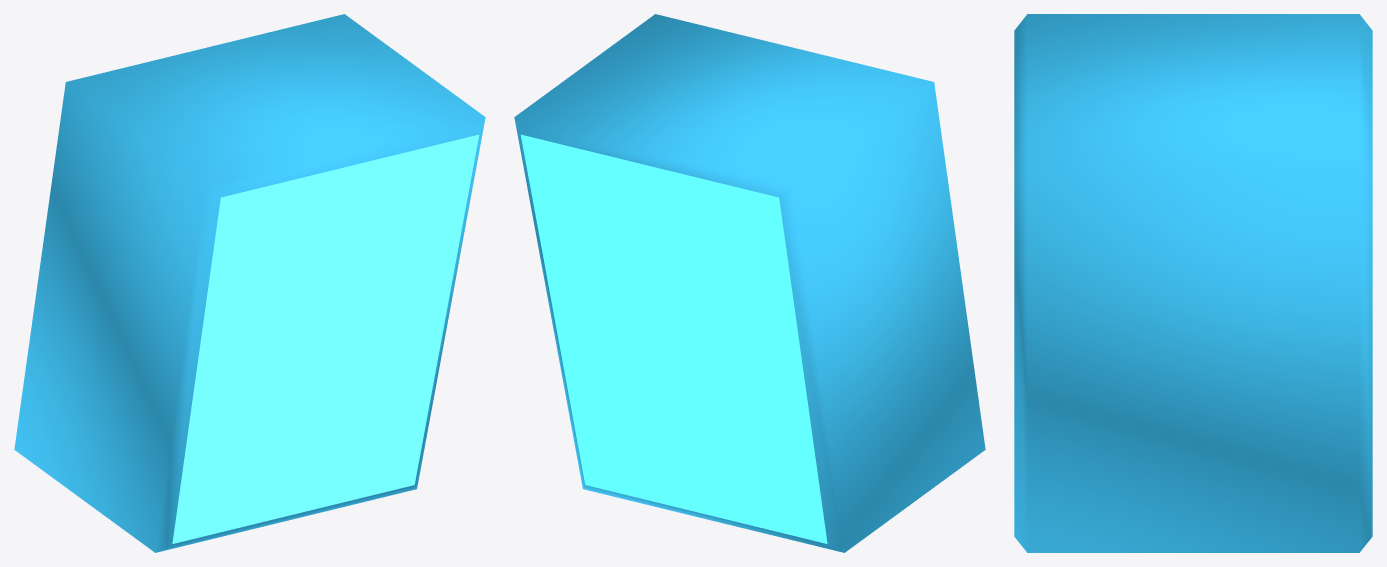
3 views of the same model, side by side, from view 1: azimuth 30°, elevation 25°; view 2: azimuth 150°, elevation 25°; view 3: azimuth 270°, elevation 25° (orthographic). The views are drawn at different scales.
Parts seen in each view (by area): view 1: glyph; view 2: glyph; view 3: glyph.
Part boxes in pixels (x1,y1,x2,y2): glyph: (14,14,485,552); glyph: (514,14,985,552); glyph: (1014,14,1372,552).
Size of the model in its own units: 0.0203 by 0.0208 by 0.0162.
